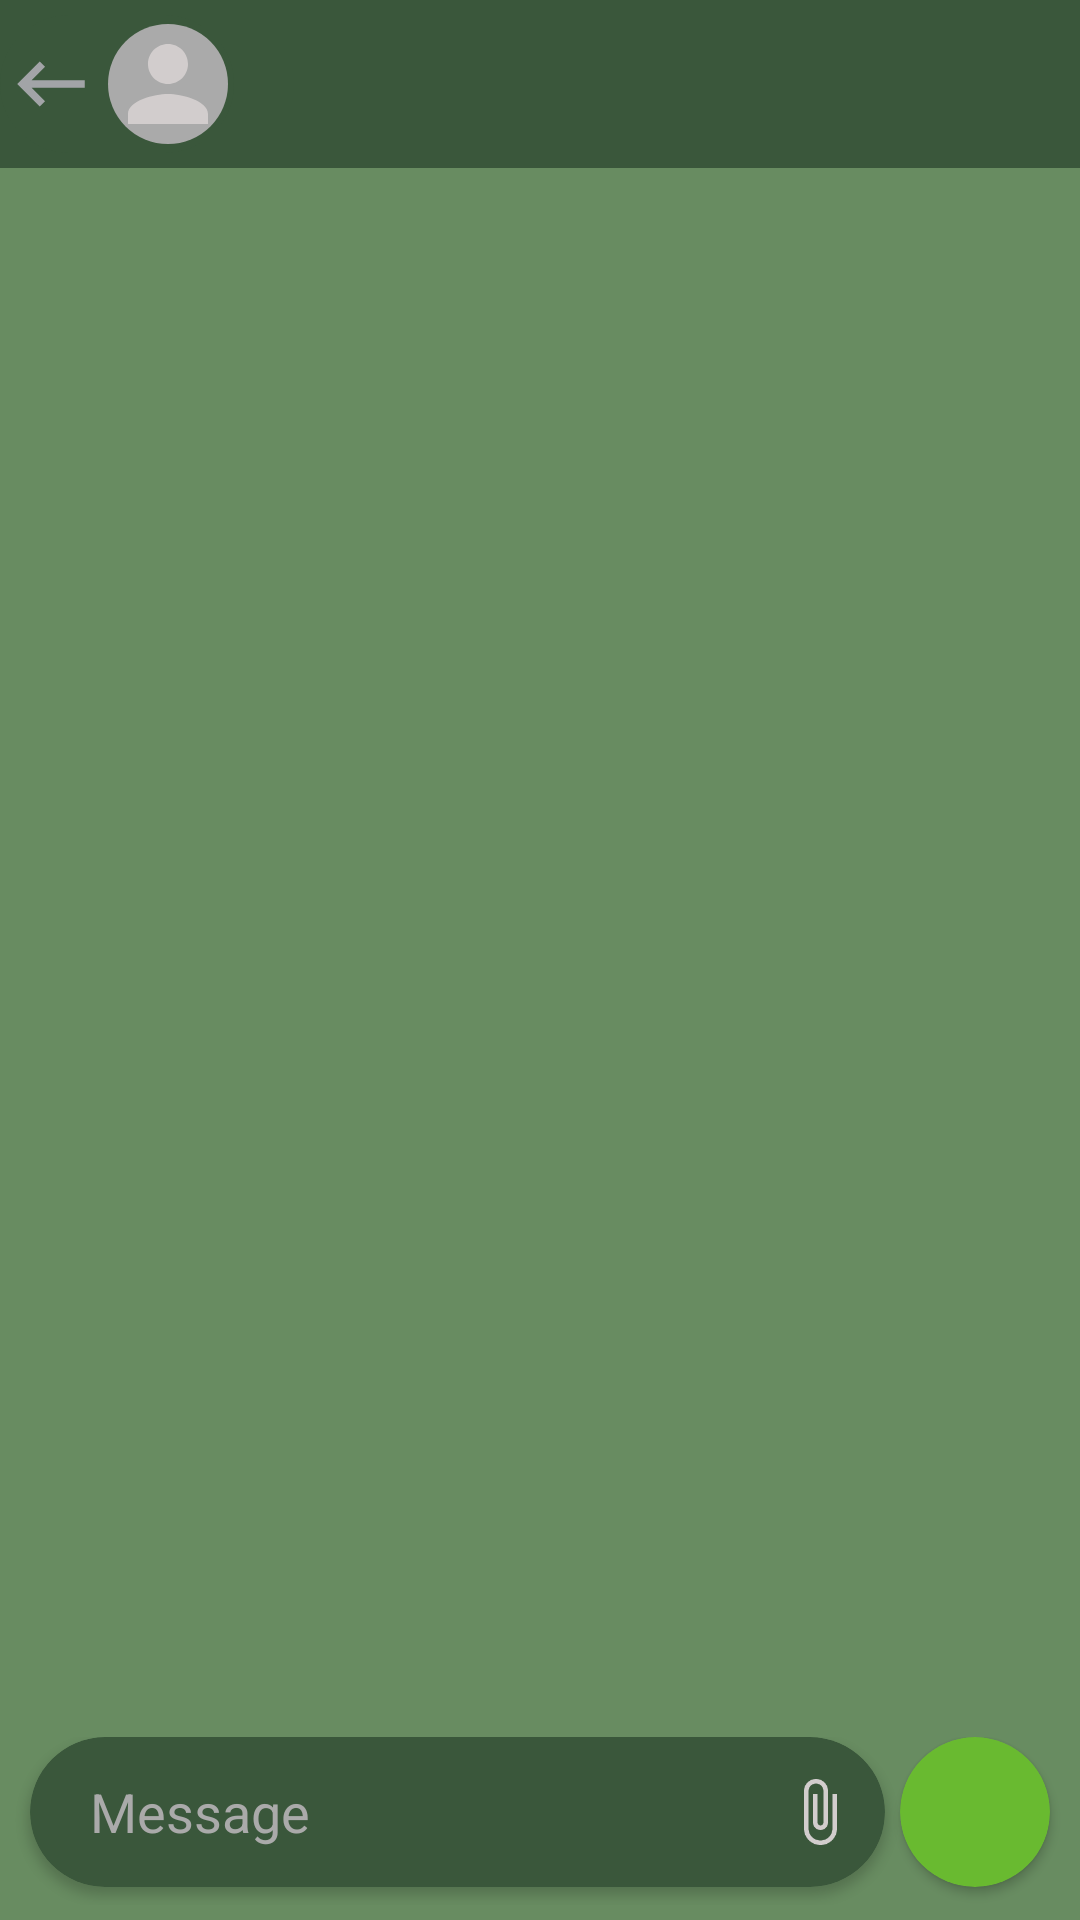

Icon bounding boxes for this 1080 × 1920 phone screenshot, format (x1, y1, x2, y2):
attach: (804, 1779, 837, 1845)
back: (17, 61, 85, 107)
